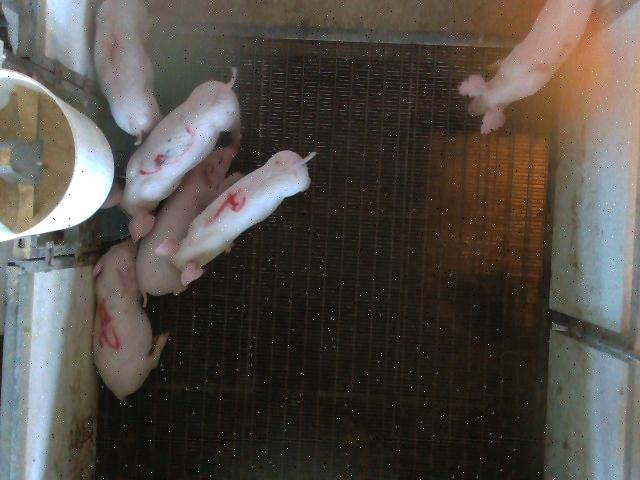pig-1: (95, 1, 161, 144)
pig-2: (459, 1, 595, 134)
pig-3: (102, 71, 240, 241)
pig-4: (156, 151, 314, 285)
pig-5: (92, 238, 169, 402)
